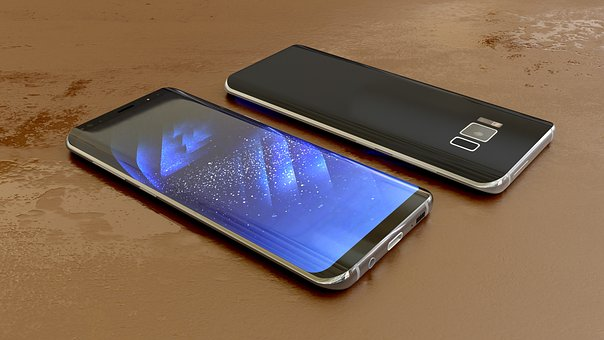mobile: (59, 28, 573, 300)
